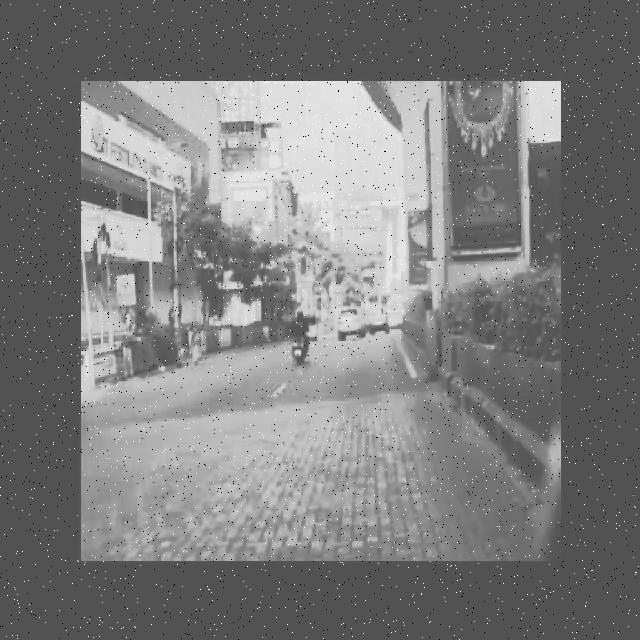Car: (371, 289, 406, 337), (337, 305, 364, 347)
